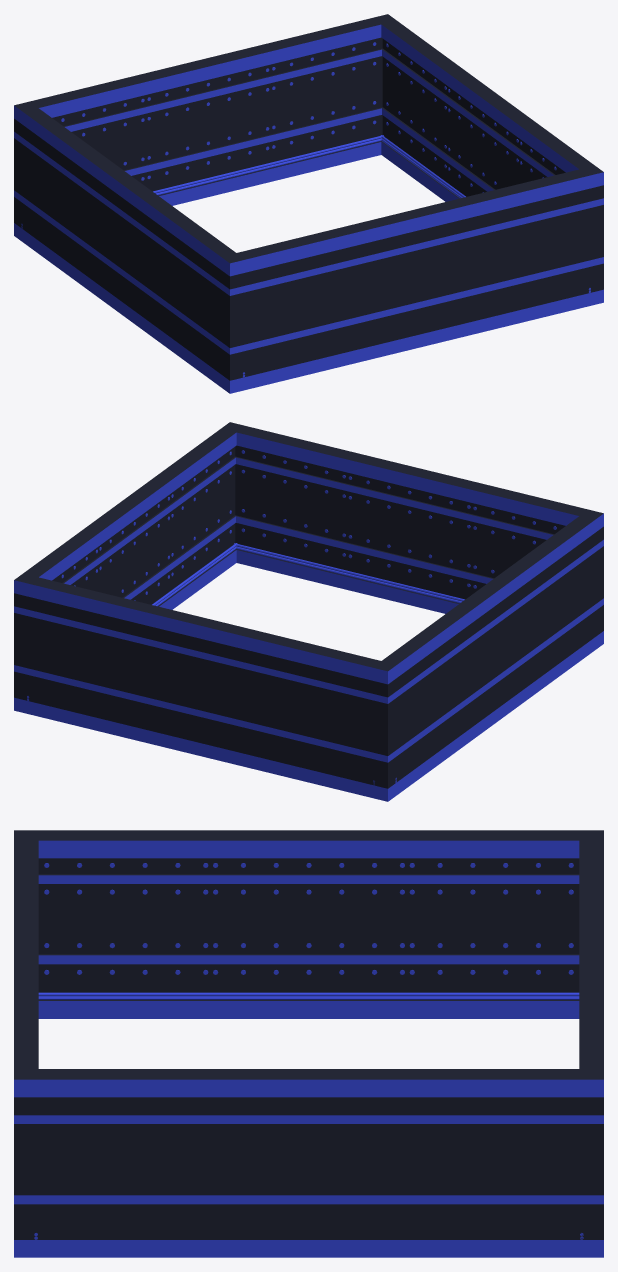
The model's file is Stairwell Collection.fbx.
The picture shows the model from 3 angles, top to bottom: view 1: azimuth 30°, elevation 25°; view 2: azimuth 150°, elevation 25°; view 3: azimuth 270°, elevation 25°; orthographic projection. The views are drawn at different scales.
Parts seen in each view (by area): view 1: Stairwell.155, Stairwell.062, Stairwell.186, Stairwell.124, Stairwell.093, Stairwell.217, Stairwell.248, Stairwell.279, Stairwell.310, Stairwell.341, Stairwell.031, Stairwell; view 2: Stairwell.031, Stairwell.062, Stairwell.155, Stairwell.093, Stairwell.124, Stairwell.248, Stairwell.217, Stairwell.279, Stairwell, Stairwell.341, Stairwell.186, Stairwell.310; view 3: Stairwell.341, Stairwell.248, Stairwell.310, Stairwell, Stairwell.279, Stairwell.217, Stairwell.093, Stairwell.124, Stairwell.062, Stairwell.155, Stairwell.186, Stairwell.031 (+6 smaller).
Part boxes in pixels (x1,y1,x2,y2): Stairwell.155: (346, 196, 479, 363); Stairwell.062: (139, 44, 272, 205); Stairwell.186: (221, 226, 354, 389); Stairwell.124: (471, 166, 603, 332); Stairwell.093: (263, 14, 396, 181); Stairwell.217: (158, 207, 245, 393); Stairwell.248: (86, 154, 172, 340); Stairwell.279: (14, 101, 100, 288); Stairwell.310: (374, 14, 459, 200); Stairwell.341: (444, 67, 531, 201); Stairwell.031: (14, 75, 147, 241); Stairwell: (516, 119, 603, 306); Stairwell.031: (263, 634, 396, 801); Stairwell.062: (138, 604, 271, 771); Stairwell.155: (345, 452, 478, 613); Stairwell.093: (16, 573, 146, 740); Stairwell.124: (222, 422, 354, 589); Stairwell.248: (445, 562, 531, 748); Stairwell.217: (517, 509, 603, 696); Stairwell.279: (372, 615, 459, 801); Stairwell: (158, 422, 244, 608); Stairwell.341: (86, 475, 173, 609); Stairwell.186: (470, 483, 603, 594); Stairwell.310: (14, 527, 101, 714); Stairwell.341: (210, 1069, 407, 1257); Stairwell.248: (210, 830, 407, 1018); Stairwell.310: (407, 1069, 603, 1257); Stairwell: (14, 1069, 210, 1257); Stairwell.279: (407, 830, 603, 1018); Stairwell.217: (14, 830, 210, 1018); Stairwell.093: (579, 996, 603, 1257); Stairwell.124: (14, 996, 38, 1257); Stairwell.062: (579, 913, 603, 996); Stairwell.155: (14, 913, 38, 996); Stairwell.186: (14, 830, 38, 913); Stairwell.031: (579, 830, 603, 913).
Size of the model in its own units: 600 by 200 by 600.
